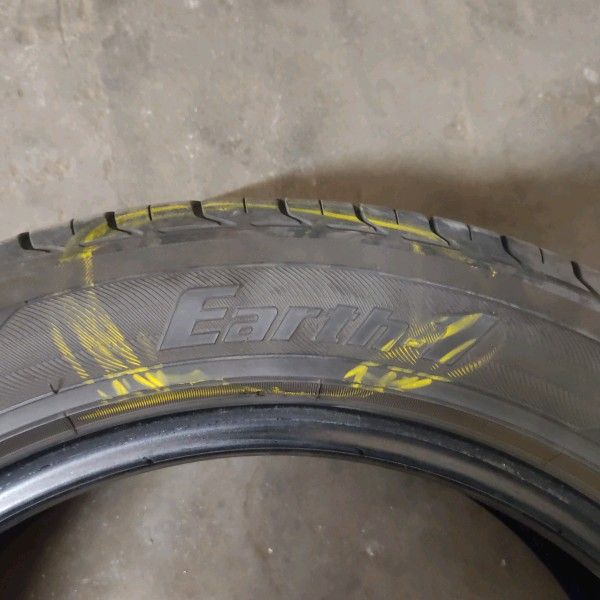CBU: (167, 265, 413, 364)
